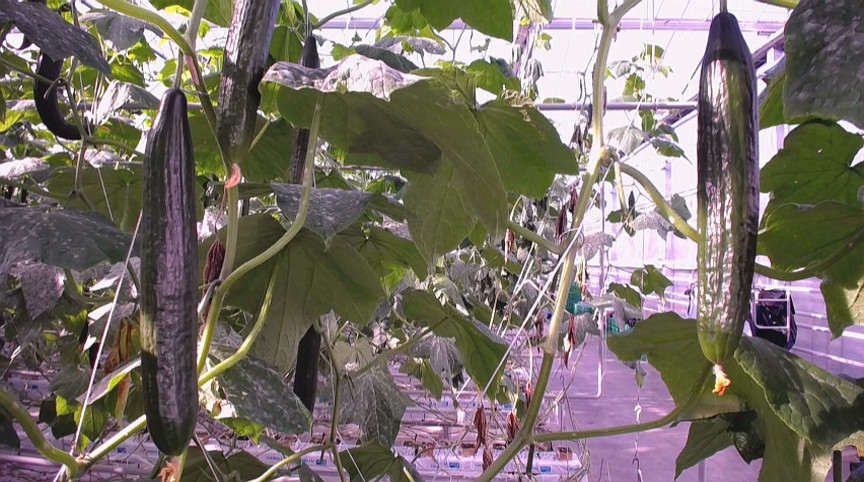cucumber: (699, 12, 760, 362), (139, 90, 196, 455), (222, 1, 280, 160), (29, 54, 98, 136), (294, 37, 318, 189), (293, 323, 322, 415)
